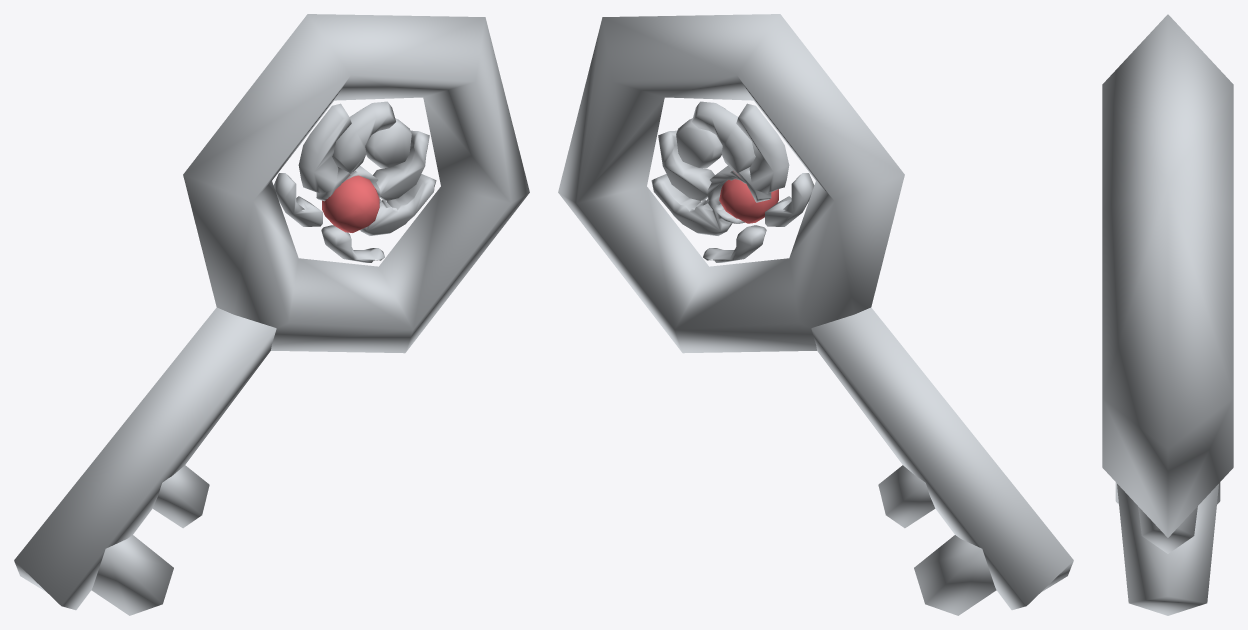
File: StoneTowerSmallKey.glb
3 renders of one model, left to right at view 1: azimuth 30°, elevation 25°; view 2: azimuth 150°, elevation 25°; view 3: azimuth 270°, elevation 25°, orthographic. The views are drawn at different scales.
Parts seen in each view (by area): view 1: StoneTowerSmallKey; view 2: StoneTowerSmallKey; view 3: StoneTowerSmallKey.
Boxes of the visible parts, bbox=[...] form: StoneTowerSmallKey: bbox=[14, 14, 529, 615]; StoneTowerSmallKey: bbox=[558, 14, 1073, 615]; StoneTowerSmallKey: bbox=[1102, 14, 1233, 615].
Size of the model in its own units: 58 by 60 by 10.
